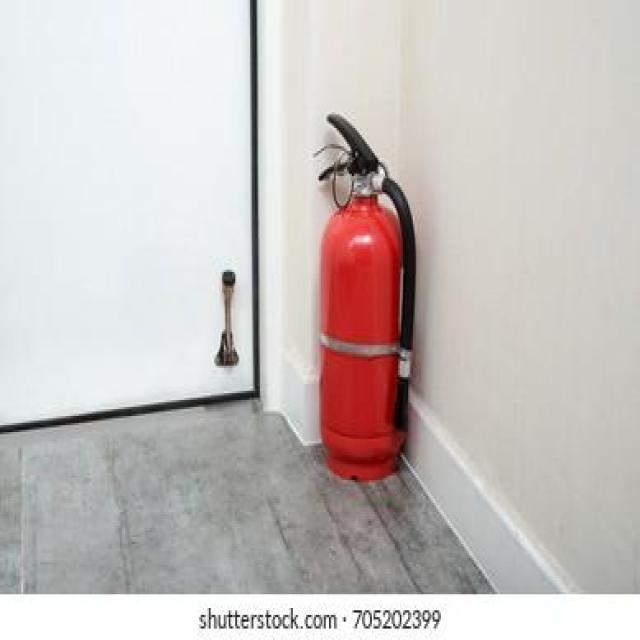fire_extinguisher: (311, 104, 421, 481)
